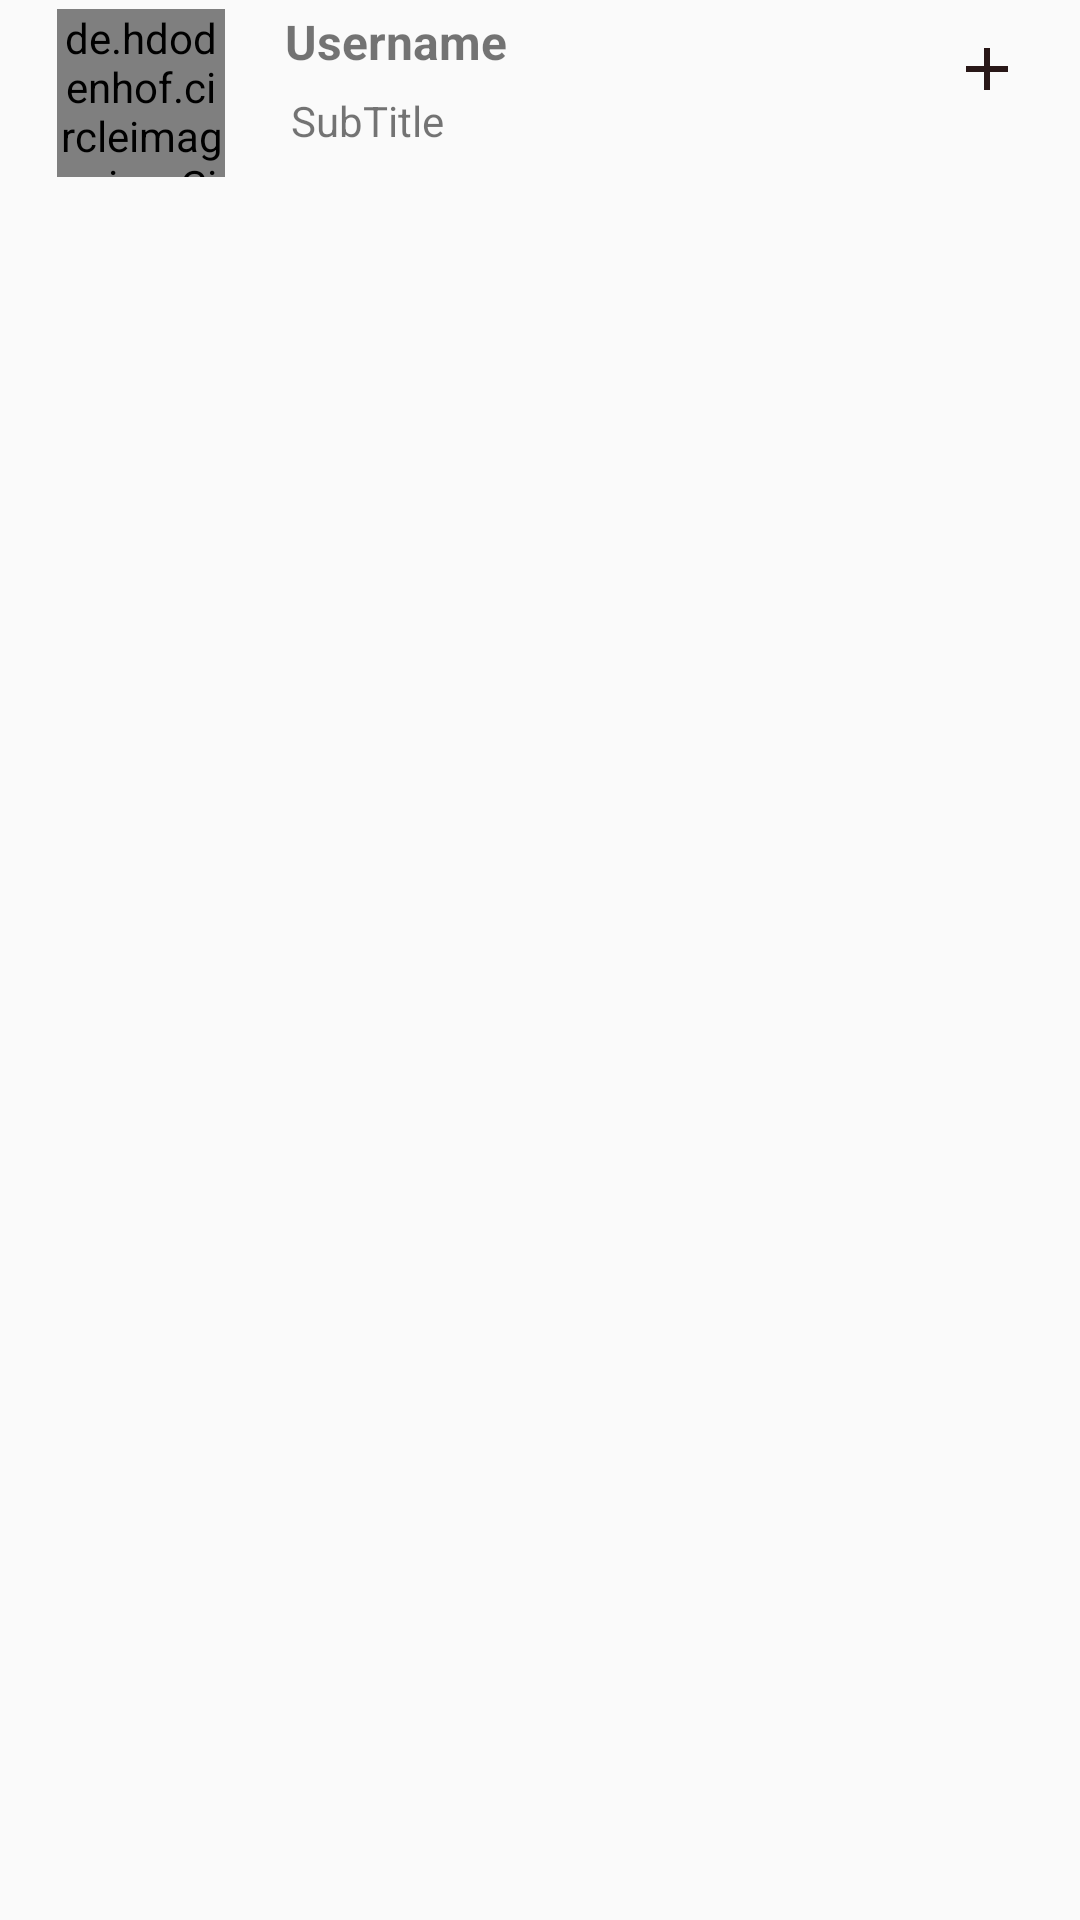

Named icons in this screenshot (1080x1920) and their bounding boxes, (x1=x1, y1=y1, x2=x2, y2=y2):
add bl: (x1=966, y1=48, x2=1008, y2=90)
